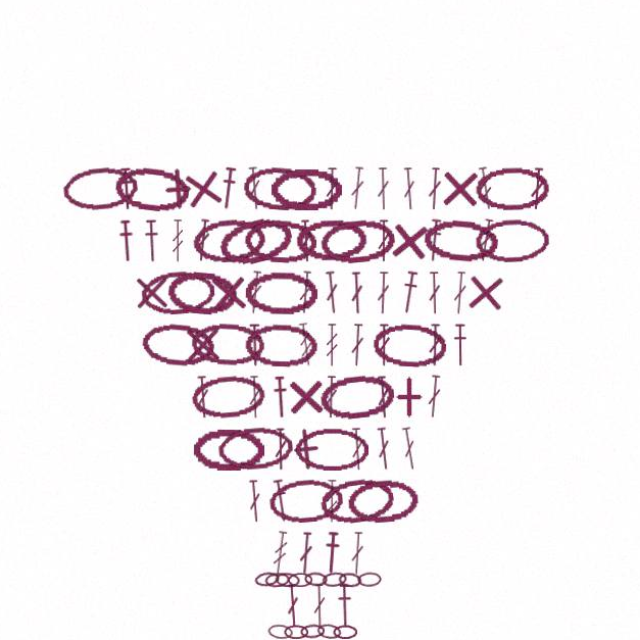chain: (217, 218, 297, 276), (318, 476, 395, 527), (117, 171, 194, 221), (318, 375, 395, 424), (193, 376, 269, 424), (319, 223, 395, 271), (420, 223, 496, 271), (67, 172, 143, 220), (219, 427, 295, 474), (144, 325, 218, 373), (269, 478, 344, 525), (244, 172, 319, 219), (144, 274, 218, 321), (194, 223, 268, 270), (346, 478, 419, 525), (169, 274, 242, 321), (371, 326, 445, 372), (193, 326, 268, 371), (245, 224, 318, 270), (472, 224, 545, 269), (246, 327, 318, 371), (472, 174, 545, 217), (246, 276, 318, 319), (296, 225, 368, 268), (296, 430, 368, 472), (195, 430, 266, 472), (271, 175, 342, 217), (317, 621, 342, 638), (256, 570, 281, 587), (322, 570, 347, 587), (269, 622, 294, 638), (266, 571, 291, 587), (276, 571, 301, 587), (338, 571, 362, 587), (301, 622, 325, 637), (357, 571, 381, 586), (305, 571, 328, 586), (285, 623, 309, 637), (333, 623, 357, 637), (289, 572, 313, 586)
double: (398, 429, 418, 472), (473, 225, 493, 268), (374, 429, 392, 472), (248, 276, 266, 319), (323, 276, 341, 319), (197, 225, 215, 268), (348, 174, 366, 217), (424, 378, 441, 421), (298, 276, 315, 319), (248, 174, 265, 217), (298, 532, 315, 574), (248, 481, 265, 523), (374, 379, 391, 421), (449, 277, 466, 319), (525, 175, 542, 217), (286, 583, 302, 625), (349, 532, 365, 574), (349, 430, 365, 472), (198, 379, 214, 421), (349, 328, 365, 370), (299, 226, 315, 268), (400, 175, 416, 217), (425, 175, 441, 217), (249, 379, 264, 421), (324, 379, 339, 421), (349, 277, 364, 319), (375, 277, 390, 319), (425, 277, 440, 319), (375, 175, 390, 217), (313, 583, 327, 625), (275, 430, 289, 472), (376, 328, 390, 370), (426, 328, 440, 370), (376, 226, 390, 268), (325, 175, 339, 217)
half_double: (271, 480, 293, 523), (397, 276, 419, 319), (220, 174, 241, 217), (423, 225, 442, 268), (323, 531, 341, 574), (273, 379, 291, 421), (122, 226, 140, 268), (122, 175, 140, 217), (336, 583, 353, 625), (248, 328, 265, 370), (147, 226, 164, 268), (450, 328, 466, 370)
single: (182, 172, 230, 220), (284, 428, 330, 474), (385, 224, 431, 270), (460, 275, 505, 320), (209, 276, 253, 320), (159, 174, 203, 218), (285, 378, 328, 421), (184, 327, 227, 370), (134, 276, 177, 319), (436, 174, 479, 217), (387, 379, 429, 421)
treble: (473, 174, 493, 217), (272, 531, 291, 574), (297, 327, 316, 370), (325, 481, 339, 523), (325, 328, 339, 370), (174, 226, 188, 268)
